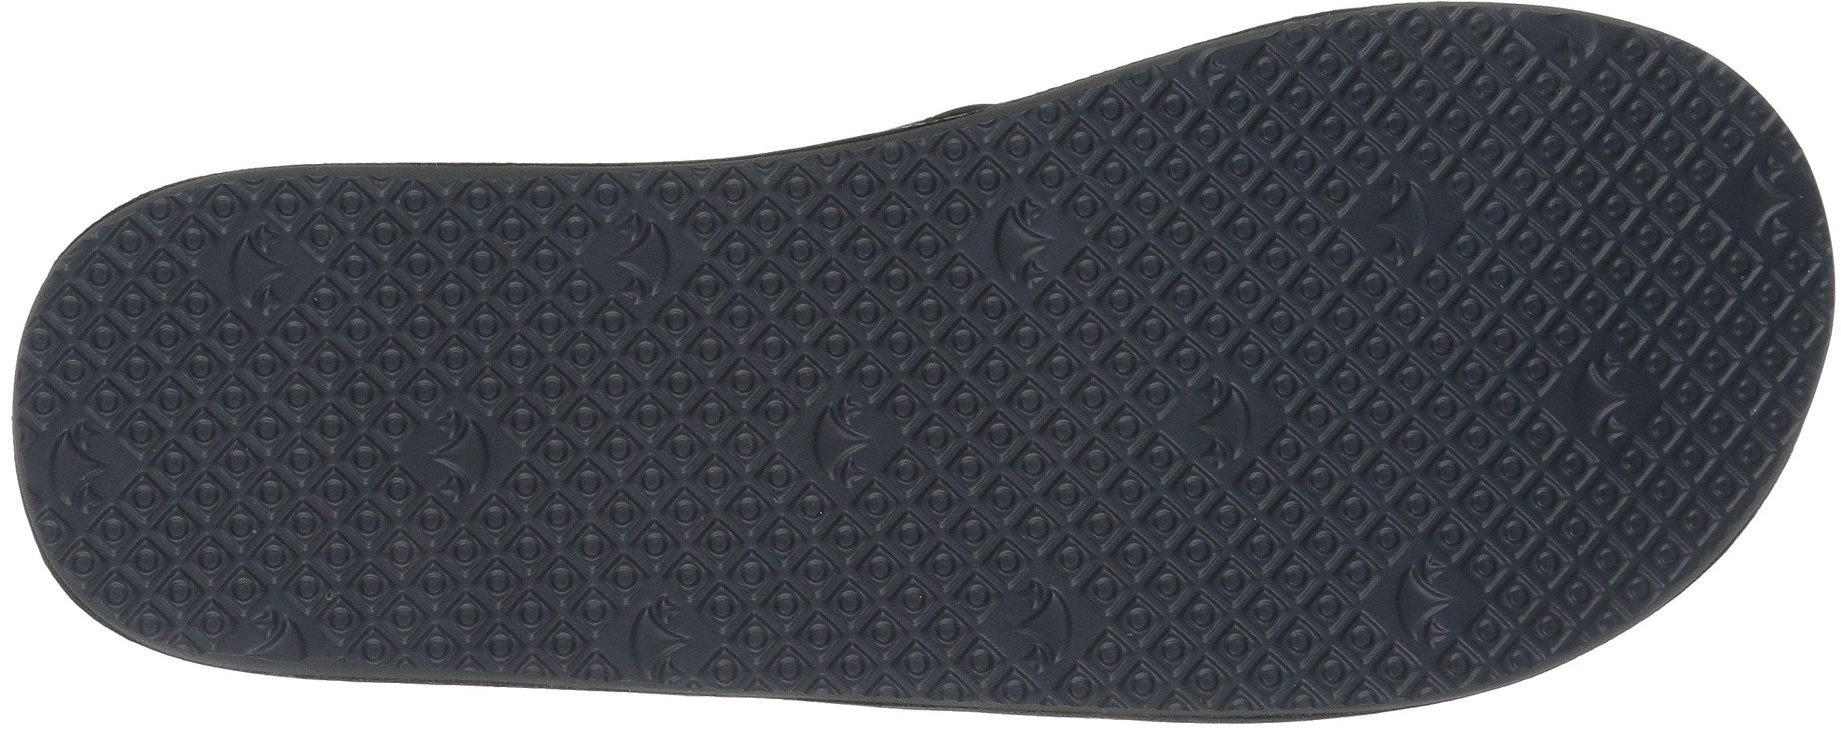quad: (15, 8, 1837, 716)
